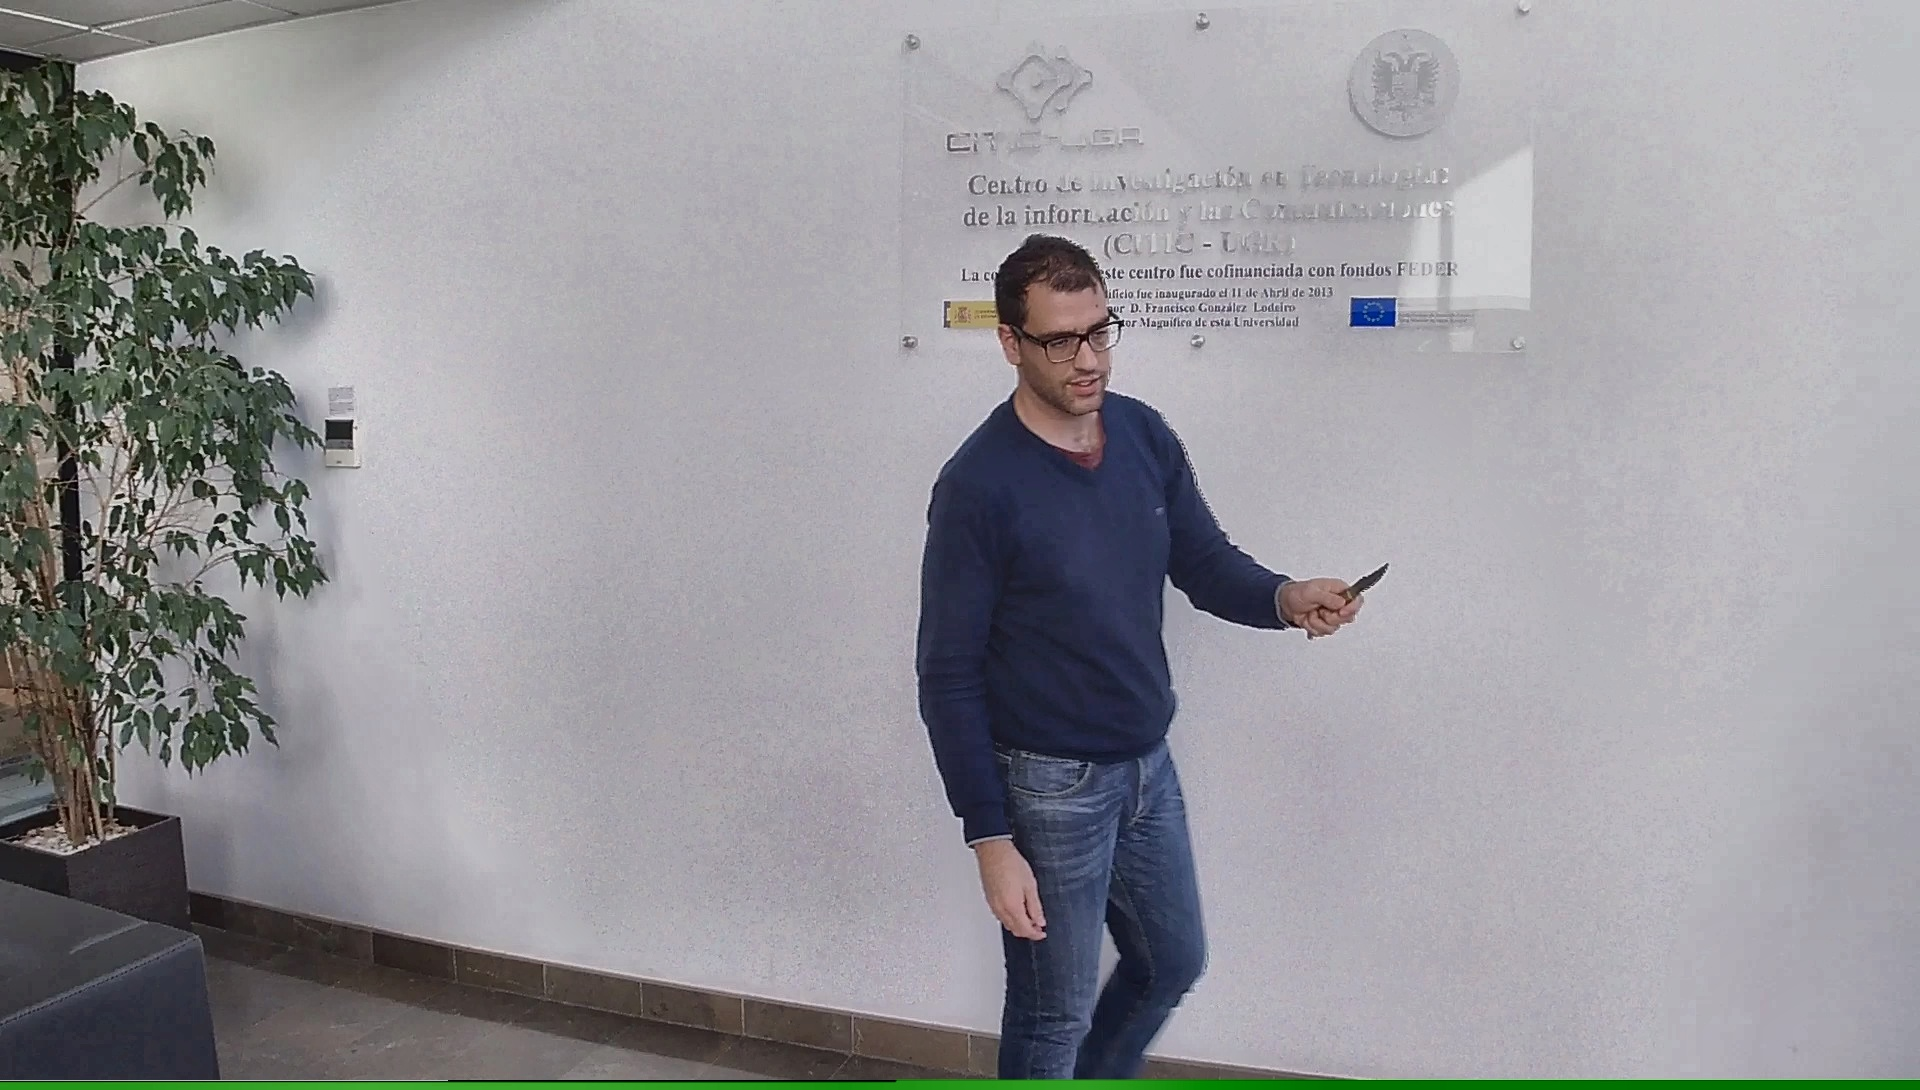knife: (1302, 552, 1398, 645)
